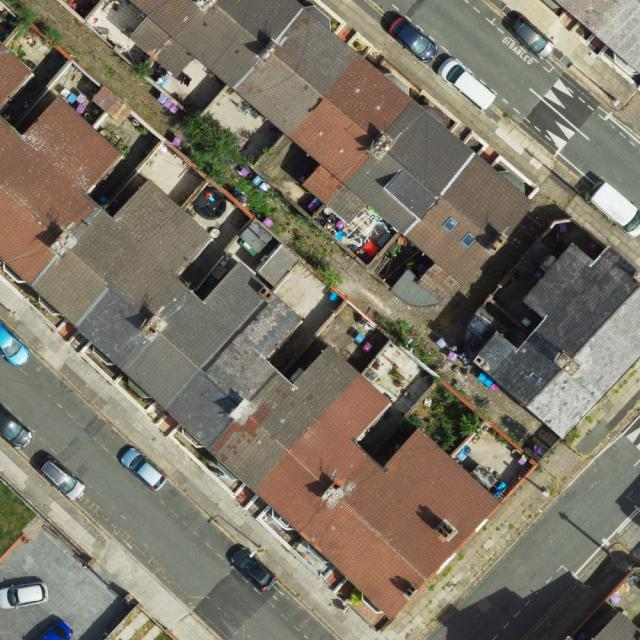roof: (0, 96, 499, 623), (126, 0, 537, 303), (476, 243, 640, 436), (554, 0, 640, 79), (0, 39, 33, 109), (596, 609, 640, 640)
skylight: (524, 367, 545, 388), (442, 214, 463, 235), (460, 231, 479, 250)
